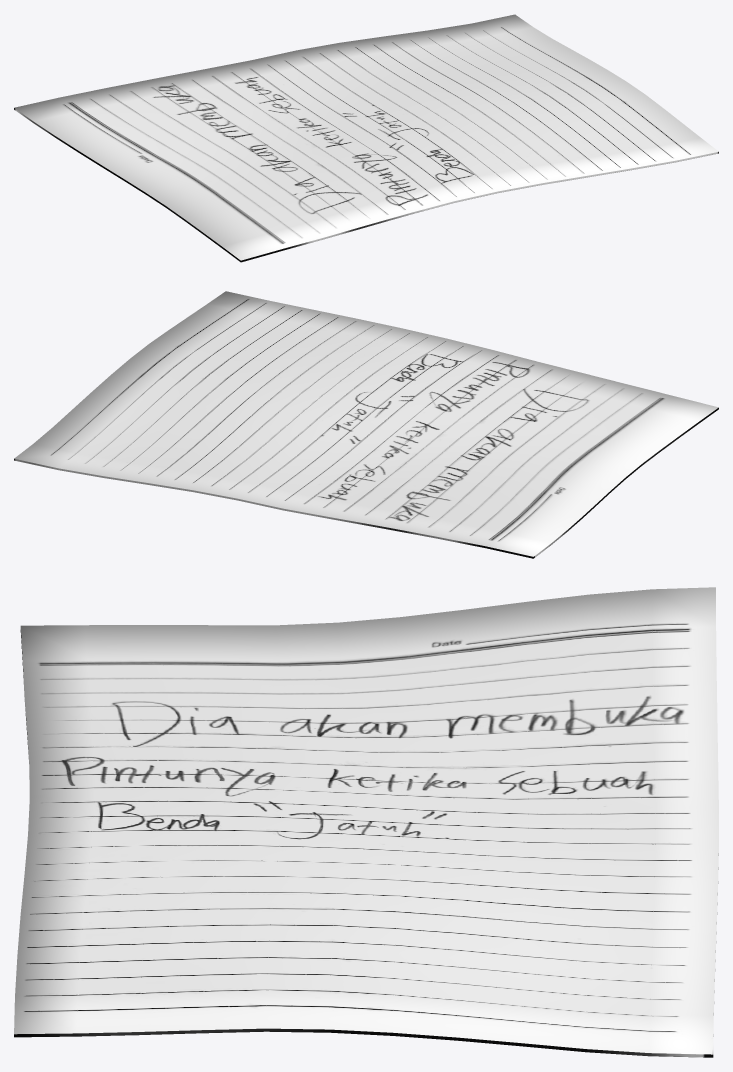
The model's file is Jatuh.fbx.
3 renders of one model, top to bottom at view 1: azimuth 30°, elevation 25°; view 2: azimuth 150°, elevation 25°; view 3: azimuth 270°, elevation 25°, orthographic. The views are drawn at different scales.
Visible parts, largest first — view 1: Jatuh; view 2: Jatuh; view 3: Jatuh.
Part boxes in pixels (x1,y1,x2,y2): Jatuh: (14,14,718,262); Jatuh: (14,291,718,558); Jatuh: (14,587,718,1057).
Bounding box in the file's own units: 143 × 8.18 × 101.
Materials: 1 (1 with a texture image).
